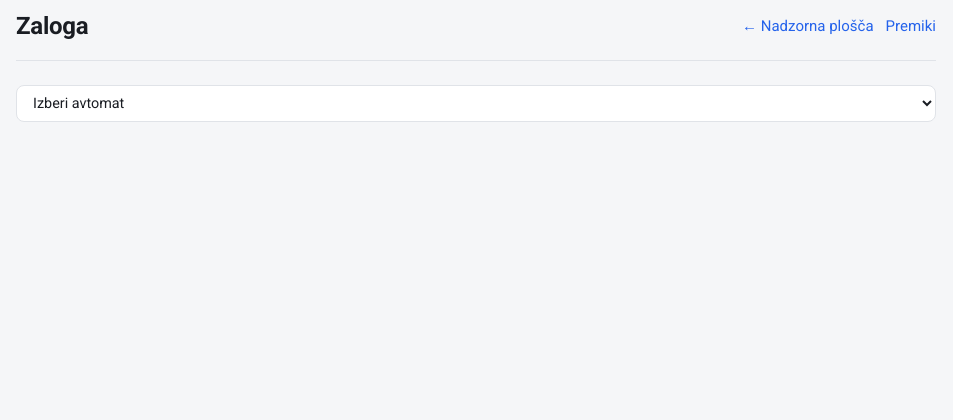
Test: InventoryPage › removes expired stock and lists removed slots
This screenshot has width=953, height=420.
Step 1. Select "MB FERI" in the dropdown named "Avtomat" → [476, 104], box left=16, top=85, right=936, bottom=122
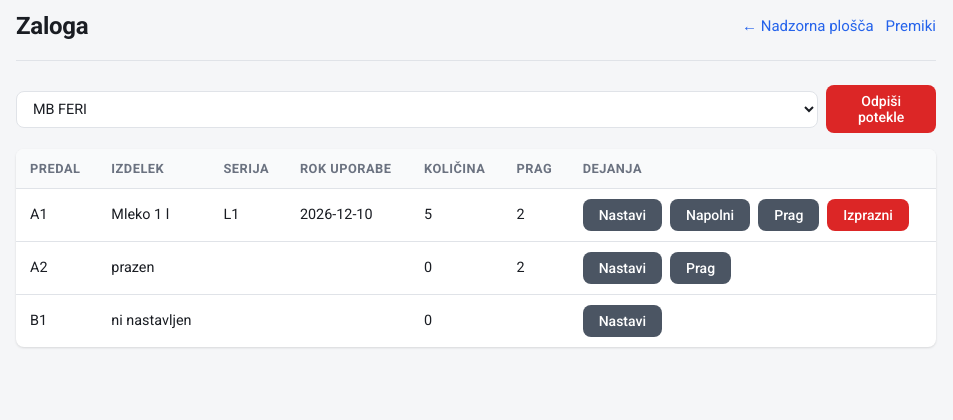
Now the text "Mleko 1 l" is shown, box left=97, top=189, right=209, bottom=242
Step 2. Click the button "Odpiši potekle" → [881, 109], box left=826, top=85, right=936, bottom=133
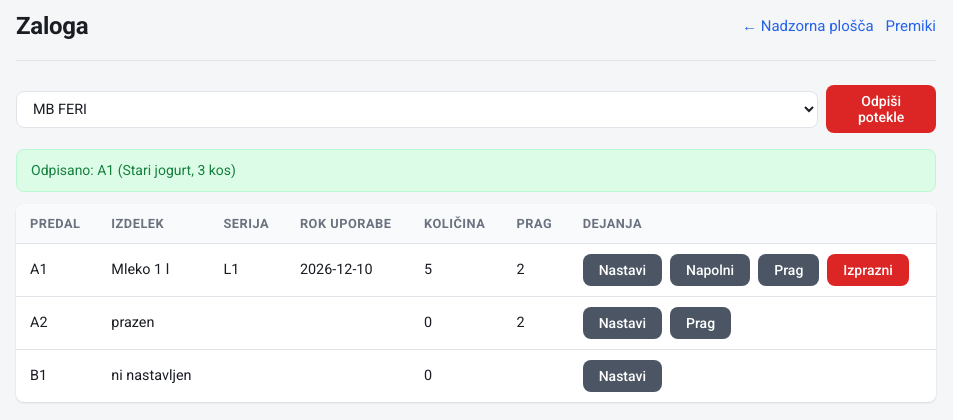
Now the text "Odpisano: A1 (Stari jogurt, 3 kos)" is shown, box left=16, top=149, right=936, bottom=192
